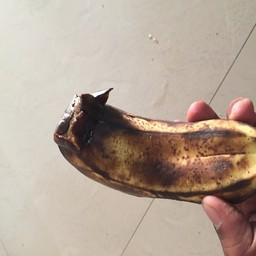Bad_banana: (51, 73, 255, 198)
